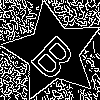B: (28, 27, 85, 83)
